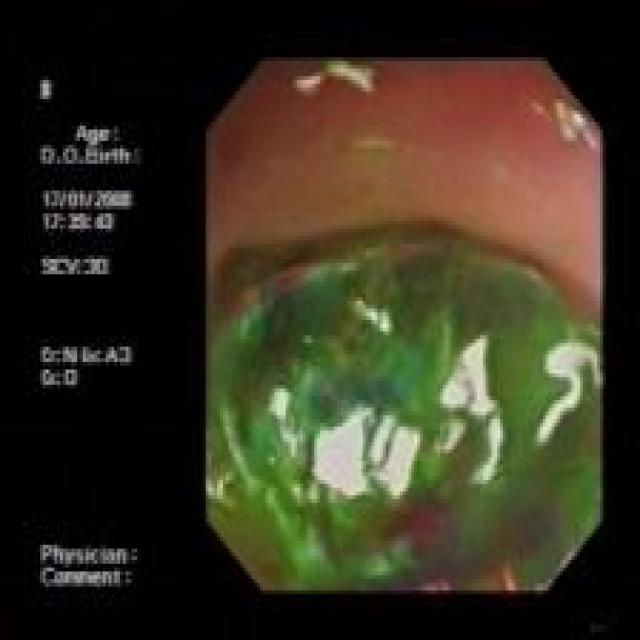color misalignment: (208, 218, 601, 593), (36, 74, 147, 593), (526, 88, 605, 157), (293, 58, 383, 107), (343, 122, 401, 162)
specularity: (440, 330, 510, 487), (535, 333, 591, 443), (312, 400, 370, 498), (370, 412, 421, 496), (271, 388, 288, 417)
